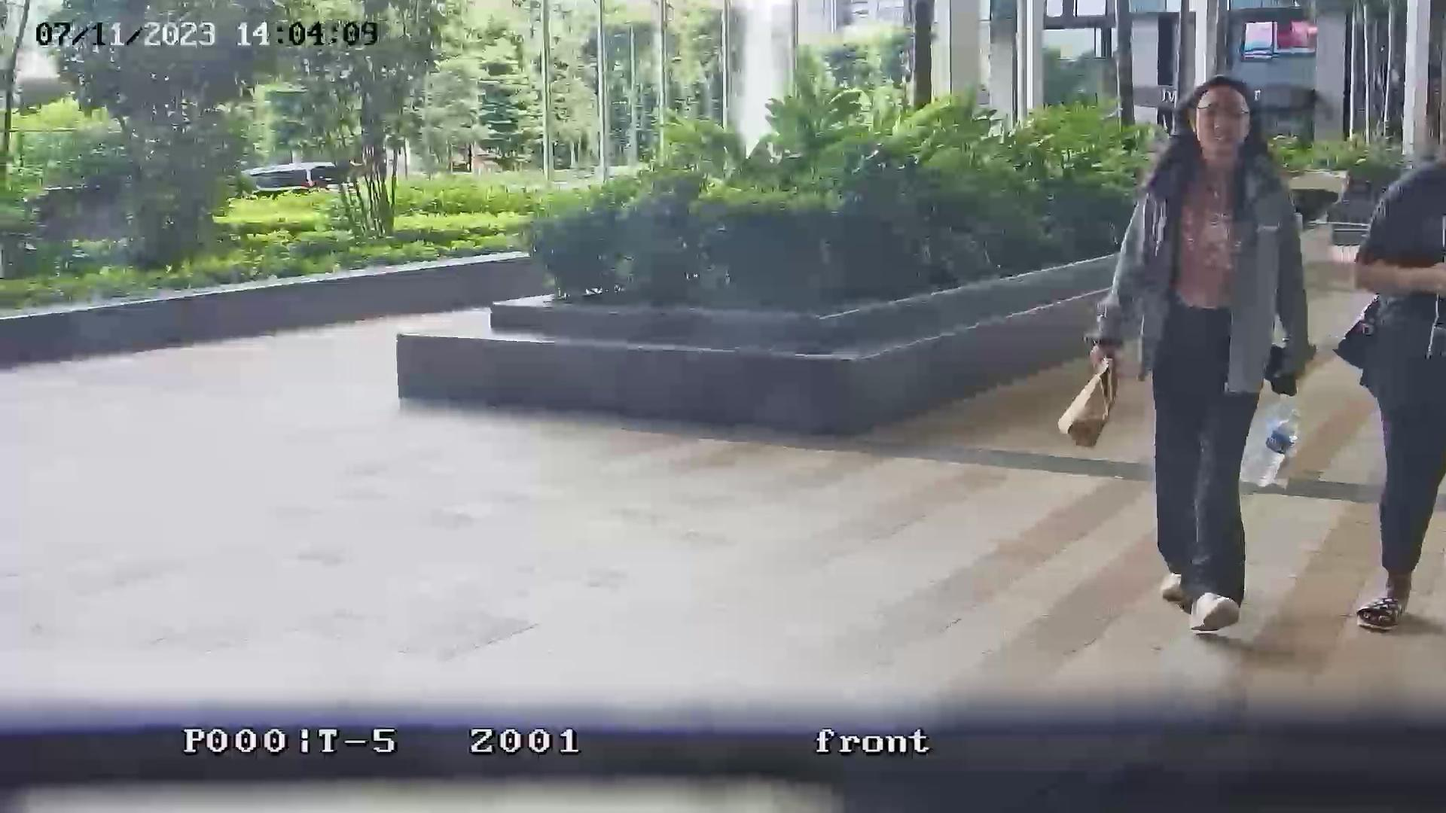person: (1089, 75, 1310, 632), (1346, 145, 1445, 631)
